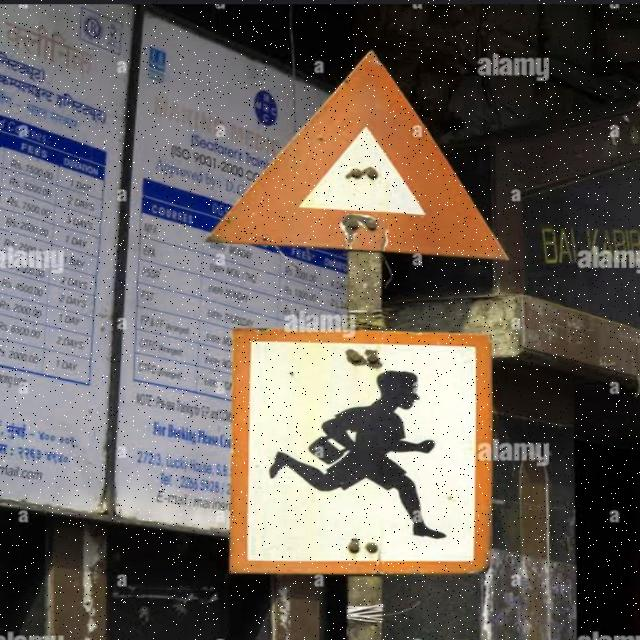school_ahead: (232, 328, 488, 576)
